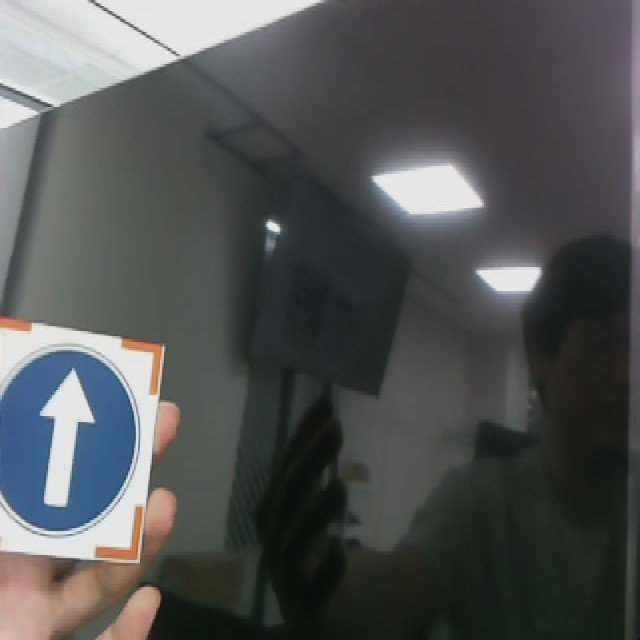strait: (2, 314, 166, 566)
